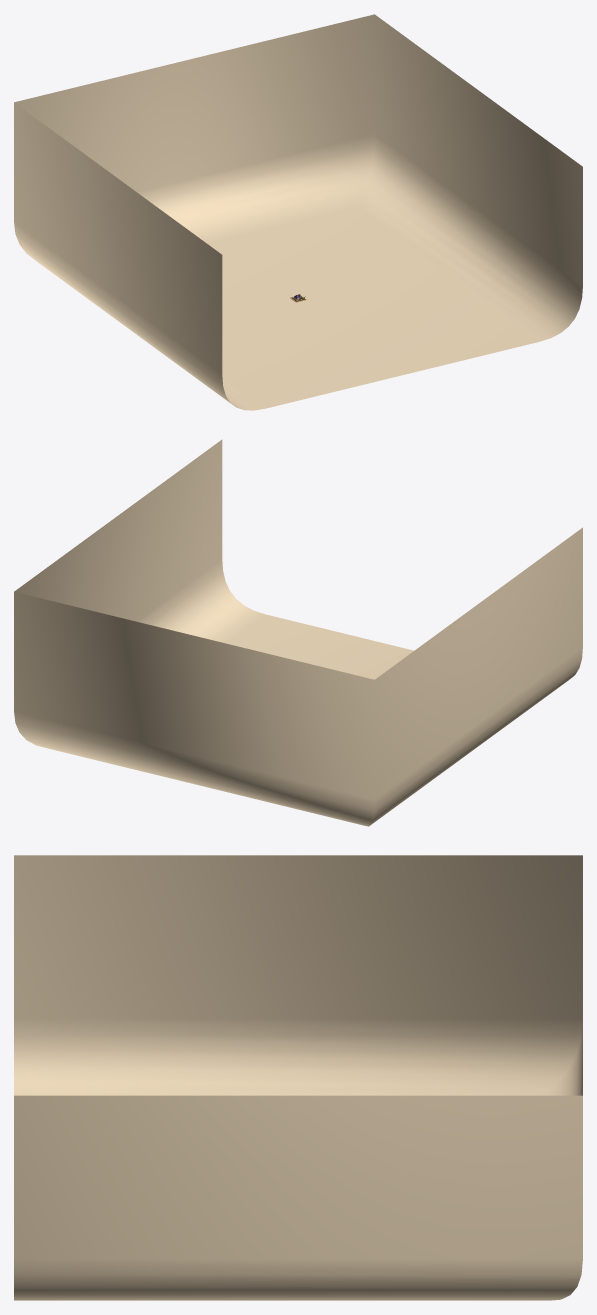
File: 04_House.FBX
3 renders of one model, top to bottom at view 1: azimuth 30°, elevation 25°; view 2: azimuth 150°, elevation 25°; view 3: azimuth 270°, elevation 25°, orthographic. The views are drawn at different scales.
Visible parts, largest first — view 1: Plane; view 2: Plane; view 3: Plane.
Part boxes in pixels (<box>): Plane: <box>14,14,582,410</box>; Plane: <box>14,439,582,826</box>; Plane: <box>14,855,582,1300</box>.
Size of the model in its own units: 17653 by 7693 by 17653.
